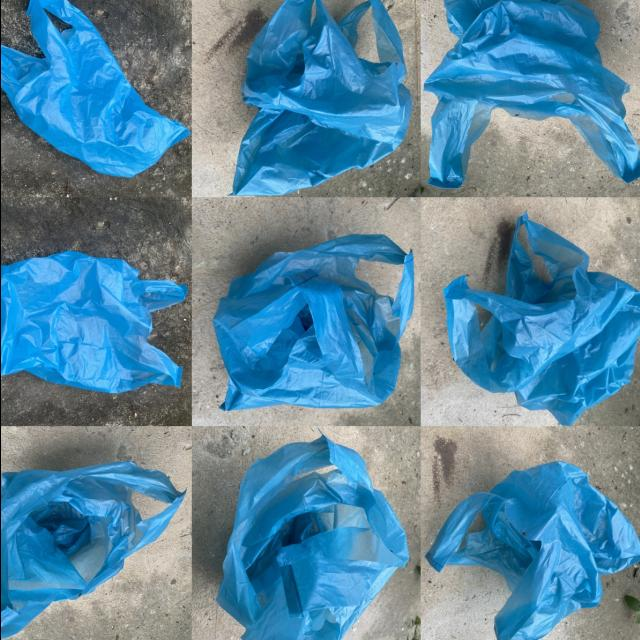plastik: (442, 212, 640, 426), (423, 0, 640, 188), (216, 435, 407, 640), (425, 462, 640, 640), (213, 234, 413, 411), (232, 0, 411, 195), (0, 0, 189, 178), (0, 462, 182, 639), (0, 251, 186, 393)
